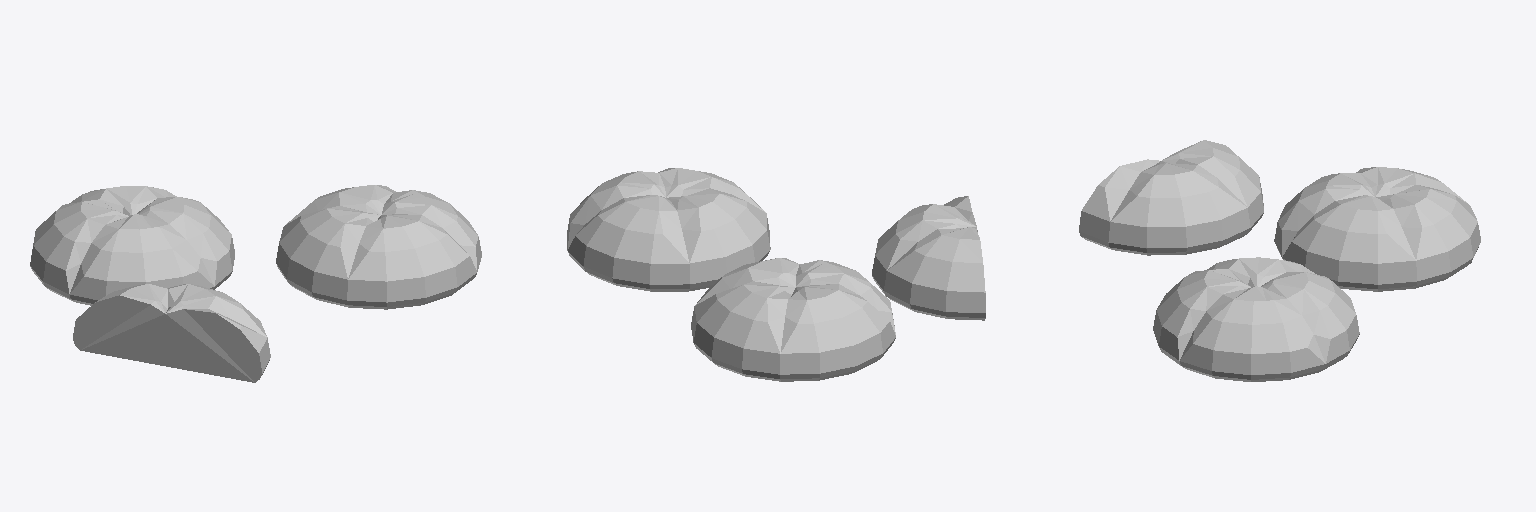
File: bread2.obj
3 views of the same model, side by side, from view 1: azimuth 30°, elevation 25°; view 2: azimuth 150°, elevation 25°; view 3: azimuth 270°, elevation 25° (orthographic).
Parts seen in each view (by area): view 1: Zylinder.010, Zylinder.003, Zylinder.004; view 2: Zylinder.003, Zylinder.010, Zylinder.004; view 3: Zylinder.010, Zylinder.003, Zylinder.004.
Part boxes in pixels (left/top/right/bottom): Zylinder.010: left=276, top=185, right=481, bottom=309; Zylinder.003: left=30, top=186, right=234, bottom=305; Zylinder.004: left=73, top=284, right=270, bottom=382; Zylinder.003: left=691, top=258, right=895, bottom=381; Zylinder.010: left=567, top=168, right=770, bottom=291; Zylinder.004: left=872, top=196, right=985, bottom=320; Zylinder.010: left=1153, top=257, right=1359, bottom=381; Zylinder.003: left=1274, top=167, right=1480, bottom=291; Zylinder.004: left=1079, top=140, right=1263, bottom=255.
Size of the model in its own units: 4.46 by 0.676 by 3.87.